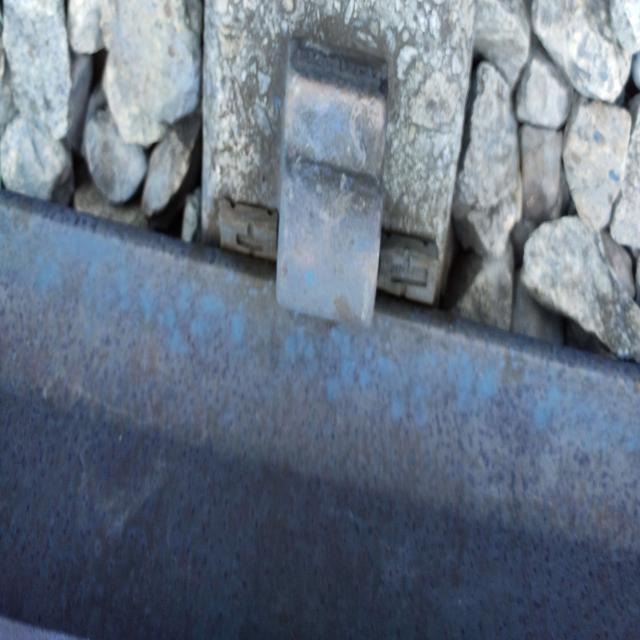Missing Fastener: (224, 28, 430, 358)
